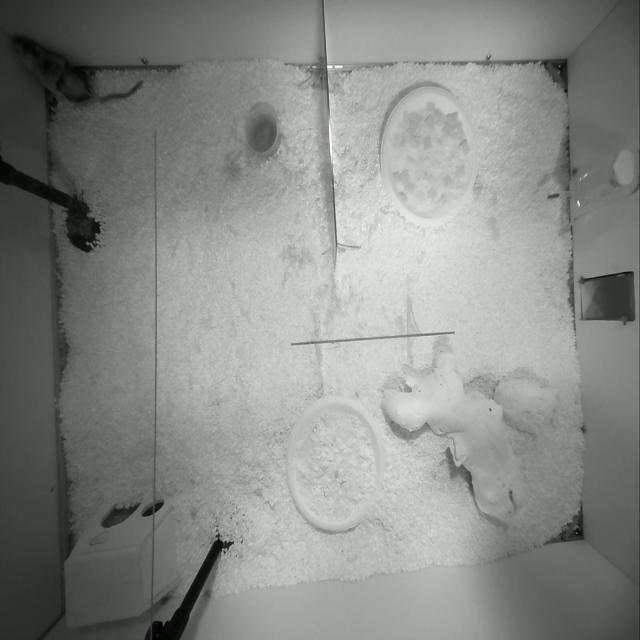adult_back: (11, 36, 142, 102)
